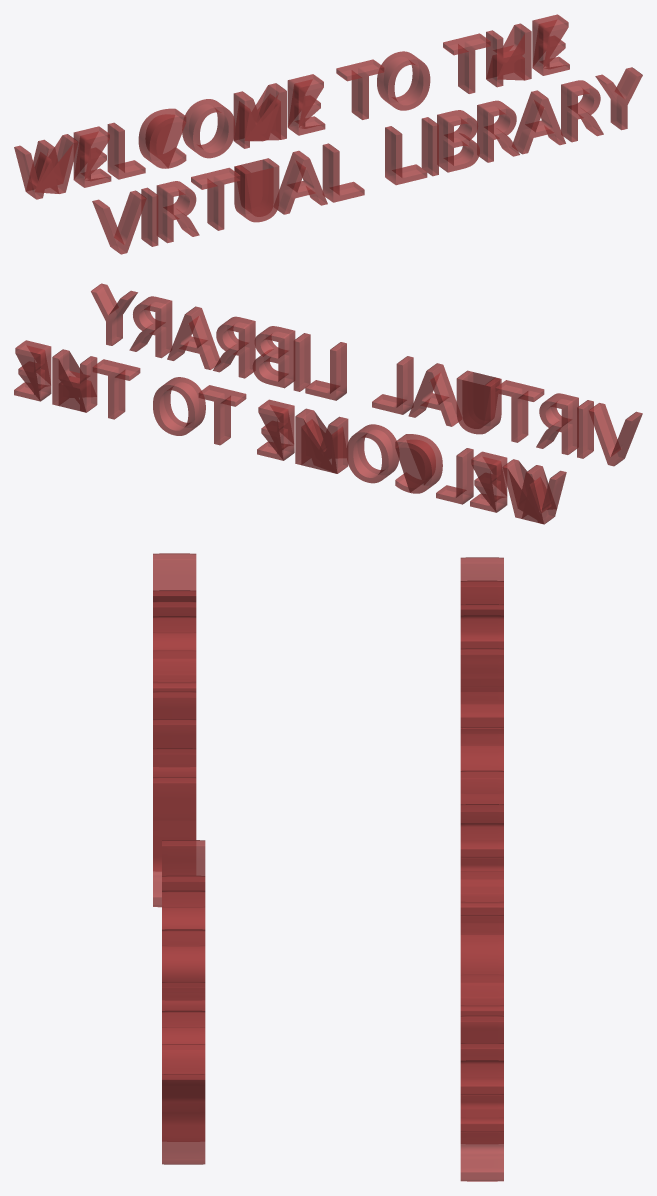
The picture shows the model from 3 angles, top to bottom: view 1: azimuth 30°, elevation 25°; view 2: azimuth 150°, elevation 25°; view 3: azimuth 270°, elevation 25°; orthographic projection. The views are drawn at different scales.
Parts seen in each view (by area): view 1: polySurface1, polySurface5, polySurface6; view 2: polySurface1, polySurface5, polySurface6; view 3: polySurface1, polySurface6, polySurface5.
Part boxes in pixels (x1,y1,x2,y2): polySurface1: (14,14,569,199); polySurface5: (92,143,364,254); polySurface6: (385,67,642,185); polySurface1: (14,340,566,524); polySurface5: (372,356,642,466); polySurface6: (91,283,346,400); polySurface1: (460,557,503,1181); polySurface6: (162,840,205,1164); polySurface5: (153,553,196,907).
Bounding box in the file's own units: 10.4 × 0.9403 × 2.92.
